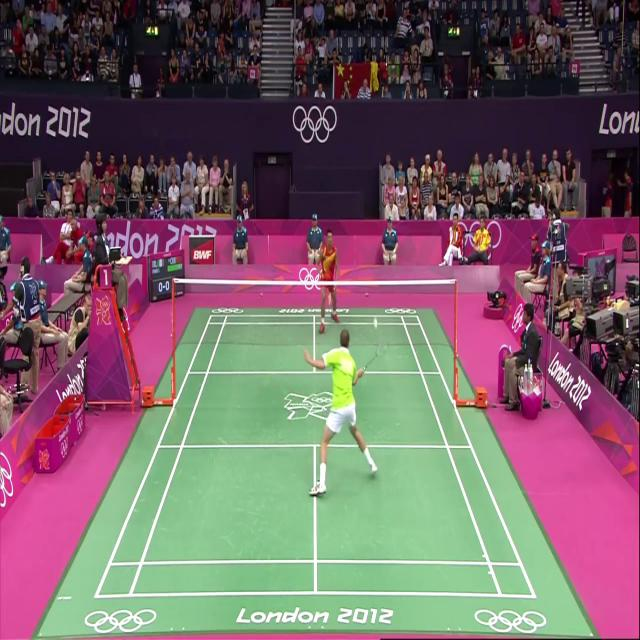Net: (172, 278, 461, 347)
Player1: (293, 321, 385, 497)
Player2: (308, 226, 345, 334)
Shuttlecock: (370, 312, 380, 330)
